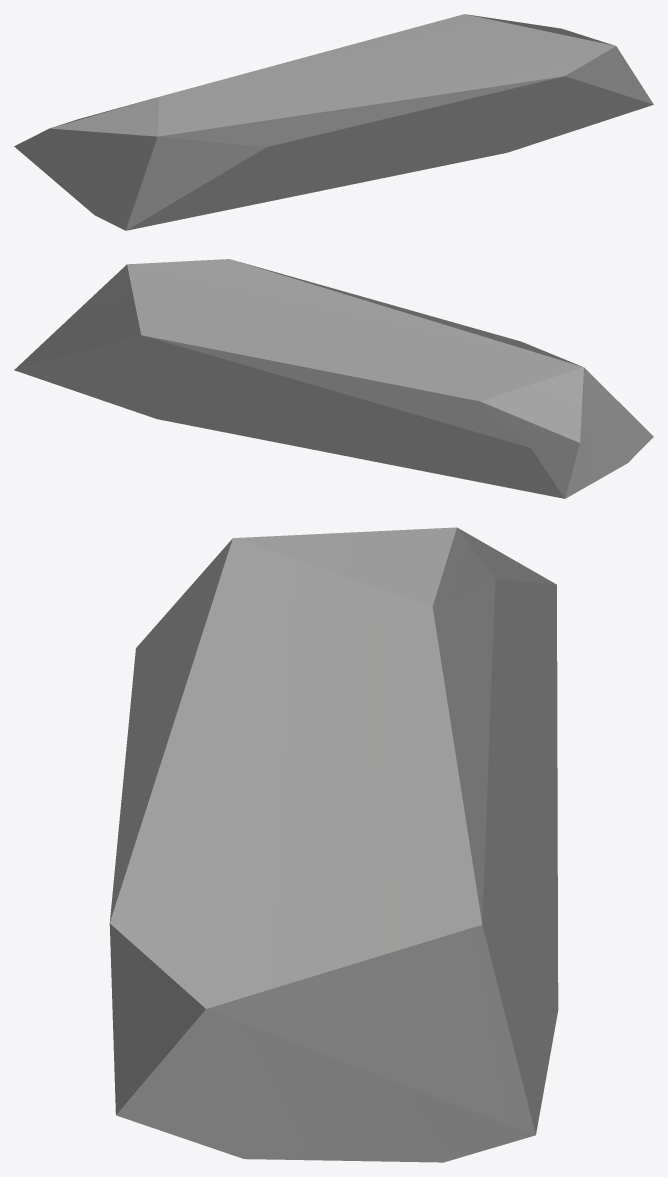
Rendered from stones2.fbx.
The picture shows the model from 3 angles, top to bottom: view 1: azimuth 30°, elevation 25°; view 2: azimuth 150°, elevation 25°; view 3: azimuth 270°, elevation 25°; orthographic projection. The views are drawn at different scales.
Parts seen in each view (by area): view 1: stones2; view 2: stones2; view 3: stones2.
Part boxes in pixels (bbox=[...]): stones2: bbox=[14, 14, 653, 230]; stones2: bbox=[14, 259, 653, 498]; stones2: bbox=[109, 527, 558, 1162].
Bounding box in the file's own units: 26.44 × 3.6 × 9.39.
